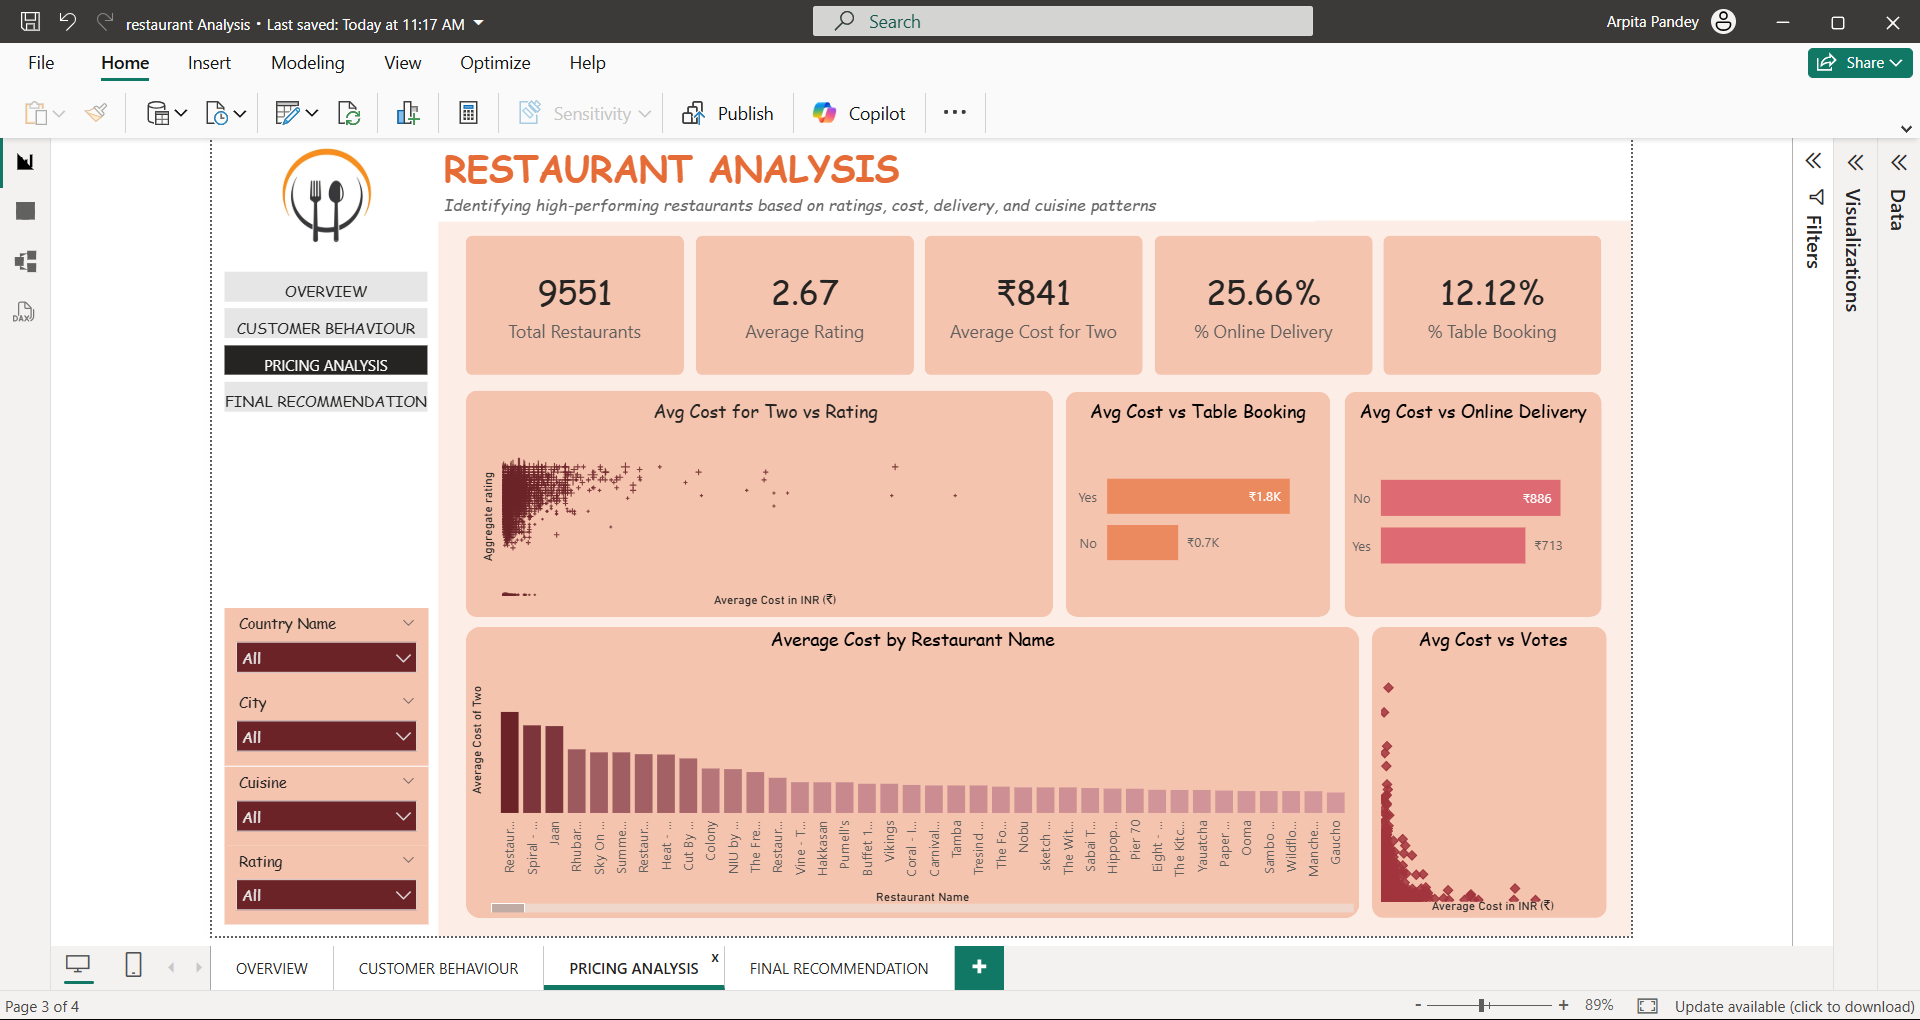

The dashboard page shown, as its layout file describes it:
{"tool":"powerbi","page":{"name":"PRICING ANALYSIS","canvas":[1280,720],"ordinal":2},"visuals":[{"type":"shape","box":[0,0,204.2,720.2],"z":0},{"type":"shape","box":[0,0,1280.3,74.6],"z":1000},{"type":"image","box":[37,0,131,104],"z":2000},{"type":"textbox","box":[204,0,554,66],"z":3000},{"type":"textbox","box":[204,45,790,30],"z":4000},{"type":"group","id":"g1","title":"Group 1","box":[228.7,87.9,196.9,126],"z":5000},{"type":"group","id":"g2","title":"Group 1","box":[435.6,87.9,196.9,126],"z":6000},{"type":"shape","box":[228.7,87.9,196.9,126],"z":7000,"group":"g1"},{"type":"shape","box":[435.6,87.9,196.9,126],"z":7000,"group":"g2"},{"type":"group","id":"g3","title":"Group 1","box":[642.6,87.9,196.9,126],"z":7000},{"type":"shape","box":[642.6,87.9,196.9,126],"z":7000,"group":"g3"},{"type":"shape","box":[849.6,87.9,196.9,126],"z":7000,"group":"g4"},{"type":"shape","box":[1056.5,87.9,196.9,126],"z":7000,"group":"g5"},{"type":"group","id":"g4","title":"Group 1","box":[849.6,87.9,196.9,126],"z":8000},{"type":"shape","box":[1046.5,440.7,211.6,262.8],"z":9000},{"type":"card","fields":{"Values":["restaurant_db.Total Restaurants"]},"box":[228.7,98.4,196.9,105.2],"z":9001,"group":"g1"},{"type":"card","fields":{"Values":["restaurant_db.Average Rating"]},"box":[435.6,98.4,196.9,105.2],"z":9001,"group":"g2"},{"type":"card","fields":{"Values":["restaurant_db.Average Cost for Two People"]},"box":[642.6,98.4,196.9,105.2],"z":9001,"group":"g3"},{"type":"card","fields":{"Values":["restaurant_db.% Online Delivery"]},"box":[849.6,98.4,196.9,105.2],"z":9001,"group":"g4"},{"type":"card","fields":{"Values":["restaurant_db.% Table Booking"]},"box":[1056.5,98.4,196.9,105.2],"z":9001,"group":"g5"},{"type":"group","id":"g5","title":"Group 1","box":[1056.5,87.9,196.9,126],"z":10000},{"type":"shape","box":[229.2,227.8,529.7,204.5],"z":11000},{"type":"scatterChart","title":"Avg Cost vs Votes","fields":{"X":["restaurant_db.Average Cost in INR (₹)"],"Y":["restaurant_db.Votes"]},"box":[1049.5,440.7,211.3,263],"z":12000},{"type":"shape","box":[228.7,440.2,805.8,262.9],"z":13000},{"type":"clusteredColumnChart","title":"Average Cost by Restaurant Name","fields":{"Category":["restaurant_db.Restaurant Name"],"Y":["restaurant_db.Average Cost for Two People"]},"box":[228.7,440.2,805.8,262.9],"z":14000},{"type":"scatterChart","title":"Avg Cost for Two vs Rating","fields":{"X":["restaurant_db.Average Cost in INR (₹)"],"Y":["restaurant_db.Aggregate rating"],"Size":["restaurant_db.total votes"]},"box":[238.8,234.6,520.1,193.5],"z":15000},{"type":"pageNavigator","box":[11,120.8,183.9,127.6],"z":16000},{"type":"shape","box":[1020.9,229.2,231.9,203.1],"z":17000},{"type":"group","id":"g6","title":"Group 2","box":[11,424,183.9,285.4],"z":18000},{"type":"clusteredBarChart","title":"Avg Cost vs Online Delivery","fields":{"Category":["restaurant_db.Has Online delivery"],"Y":["restaurant_db.Average Cost for Two People"]},"box":[1020.9,234.6,231.9,194.9],"z":19000},{"type":"shape","box":[769.8,229.2,238.8,203.1],"z":20000},{"type":"slicer","fields":{"Values":["restaurant_db.Country Name"]},"box":[11,424,183.9,71.4],"z":20000,"group":"g6"},{"type":"clusteredBarChart","title":"Avg Cost vs Table Booking","fields":{"Category":["restaurant_db.Has Table booking"],"Y":["restaurant_db.Average Cost for Two People"]},"box":[773.9,234.6,229.2,190.7],"z":21000},{"type":"slicer","fields":{"Values":["restaurant_db.City"]},"box":[11,495.4,183.9,71.4],"z":21000,"group":"g6"},{"type":"slicer","fields":{"Values":["Cuisine_tbl.Cuisine"]},"box":[11,566.7,183.9,71.4],"z":22000,"group":"g6"},{"type":"slicer","fields":{"Values":["restaurant_db.Rating text"]},"box":[11,638.1,183.9,71.4],"z":23000,"group":"g6"}]}

Visuals, with their boxes on the page's 1280x720 design canvas (x1, y1, x2, y2). These are canvas units, not pixel positions in the 1920x1020 screenshot, which may show the page scaled, cropped or inside an application window:
shape: [x1=0, y1=0, x2=204, y2=720]
shape: [x1=0, y1=0, x2=1280, y2=75]
image: [x1=37, y1=0, x2=168, y2=104]
textbox: [x1=204, y1=0, x2=758, y2=66]
textbox: [x1=204, y1=45, x2=994, y2=75]
"Group 1" group: [x1=229, y1=88, x2=426, y2=214]
"Group 1" group: [x1=436, y1=88, x2=632, y2=214]
shape: [x1=229, y1=88, x2=426, y2=214]
shape: [x1=436, y1=88, x2=632, y2=214]
"Group 1" group: [x1=643, y1=88, x2=840, y2=214]
shape: [x1=643, y1=88, x2=840, y2=214]
shape: [x1=850, y1=88, x2=1046, y2=214]
shape: [x1=1056, y1=88, x2=1253, y2=214]
"Group 1" group: [x1=850, y1=88, x2=1046, y2=214]
shape: [x1=1046, y1=441, x2=1258, y2=704]
card - restaurant_db.Total Restaurants: [x1=229, y1=98, x2=426, y2=204]
card - restaurant_db.Average Rating: [x1=436, y1=98, x2=632, y2=204]
card - restaurant_db.Average Cost for Two People: [x1=643, y1=98, x2=840, y2=204]
card - restaurant_db.% Online Delivery: [x1=850, y1=98, x2=1046, y2=204]
card - restaurant_db.% Table Booking: [x1=1056, y1=98, x2=1253, y2=204]
"Group 1" group: [x1=1056, y1=88, x2=1253, y2=214]
shape: [x1=229, y1=228, x2=759, y2=432]
"Avg Cost vs Votes" scatterChart: [x1=1050, y1=441, x2=1261, y2=704]
shape: [x1=229, y1=440, x2=1034, y2=703]
"Average Cost by Restaurant Name" clusteredColumnChart: [x1=229, y1=440, x2=1034, y2=703]
"Avg Cost for Two vs Rating" scatterChart: [x1=239, y1=235, x2=759, y2=428]
pageNavigator: [x1=11, y1=121, x2=195, y2=248]
shape: [x1=1021, y1=229, x2=1253, y2=432]
"Group 2" group: [x1=11, y1=424, x2=195, y2=709]
"Avg Cost vs Online Delivery" clusteredBarChart: [x1=1021, y1=235, x2=1253, y2=430]
shape: [x1=770, y1=229, x2=1009, y2=432]
slicer - restaurant_db.Country Name: [x1=11, y1=424, x2=195, y2=495]
"Avg Cost vs Table Booking" clusteredBarChart: [x1=774, y1=235, x2=1003, y2=425]
slicer - restaurant_db.City: [x1=11, y1=495, x2=195, y2=567]
slicer - Cuisine_tbl.Cuisine: [x1=11, y1=567, x2=195, y2=638]
slicer - restaurant_db.Rating text: [x1=11, y1=638, x2=195, y2=710]
